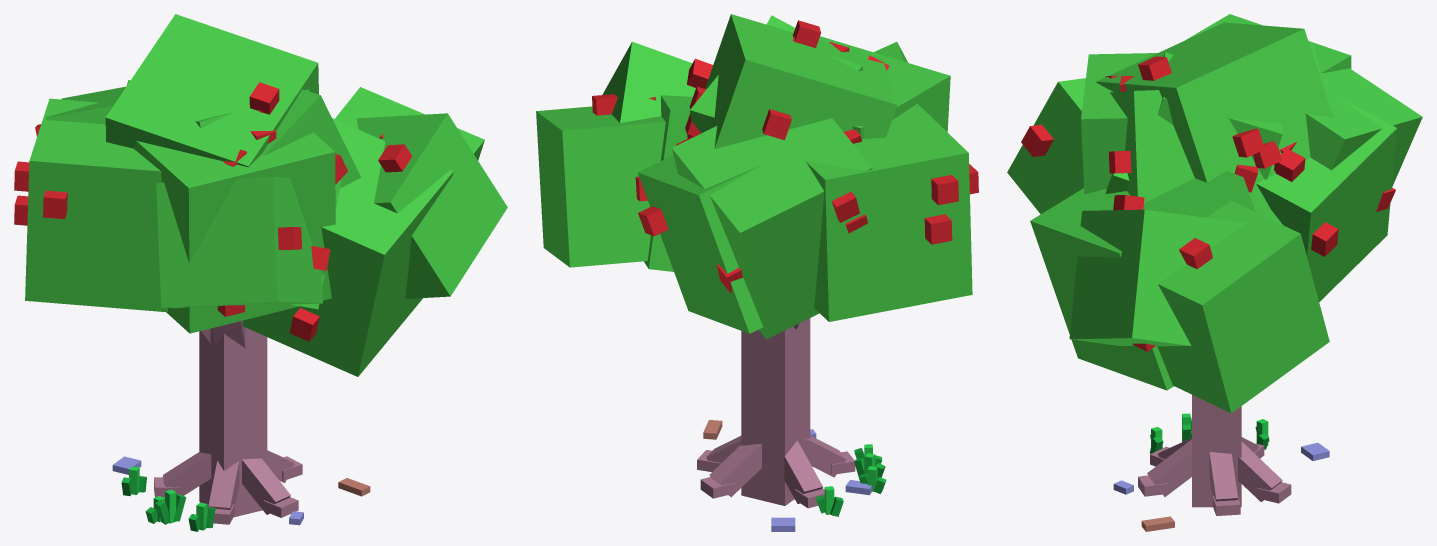
File: AppleTree.fbx
The picture shows the model from 3 angles, left to right: view 1: azimuth 30°, elevation 25°; view 2: azimuth 150°, elevation 25°; view 3: azimuth 270°, elevation 25°; orthographic projection.
Visible parts, largest first — view 1: LeafGreen, Trunk, Apple, GrassDark.003, Grass.003; view 2: LeafGreen, Trunk, Apple, GrassDark.003, RockBlue, Grass.003; view 3: LeafGreen, Trunk, Apple, RockBlue, Grass.003.
Boxes of the visible parts, box(x1,y1,x2,y2) form: LeafGreen: box(25, 14, 507, 376); Trunk: box(154, 320, 302, 524); Apple: box(14, 82, 412, 341); GrassDark.003: box(121, 476, 215, 531); Grass.003: box(129, 466, 207, 530); LeafGreen: box(536, 14, 972, 339); Trunk: box(697, 318, 855, 508); Apple: box(592, 20, 978, 292); GrassDark.003: box(815, 448, 886, 516); RockBlue: box(771, 429, 872, 531); Grass.003: box(824, 444, 877, 514); LeafGreen: box(1007, 14, 1422, 413); Trunk: box(1138, 395, 1291, 515); Apple: box(1021, 56, 1395, 351); RockBlue: box(1113, 442, 1329, 494); Grass.003: box(1151, 413, 1268, 448).
Bounding box in the file's own units: 18.61 × 18.45 × 15.08.
